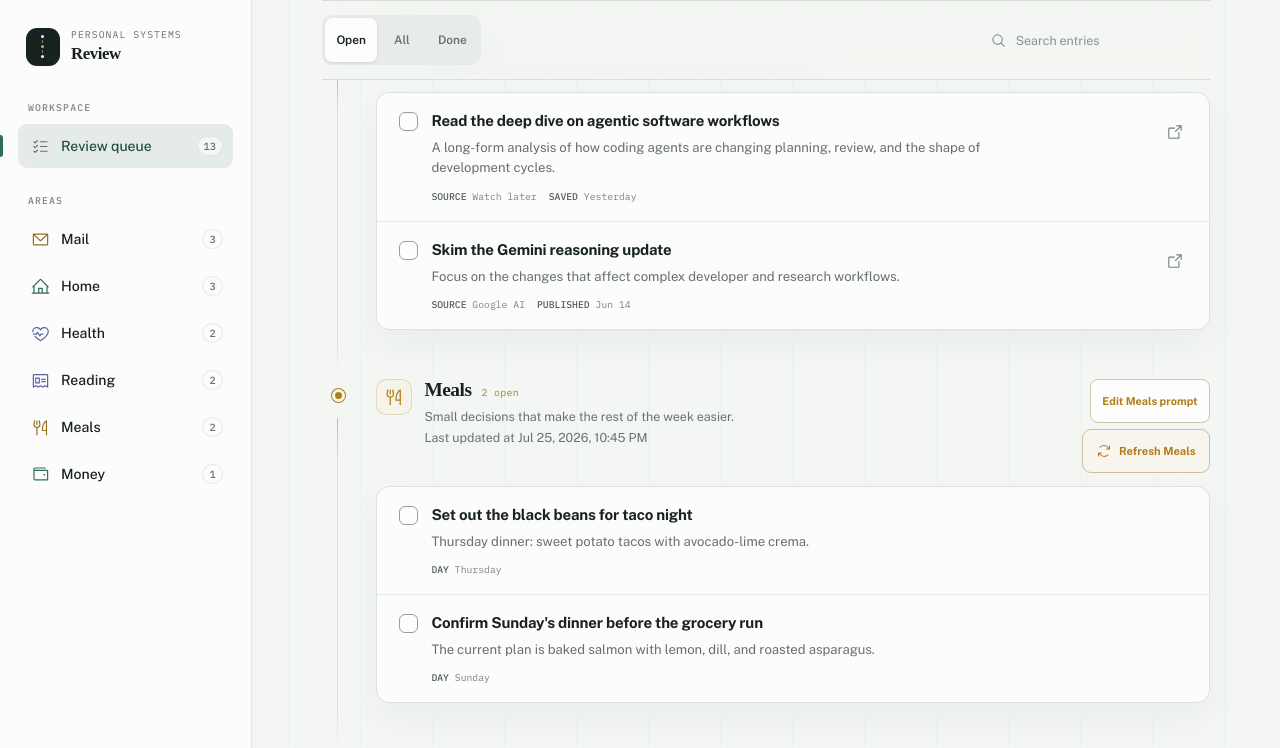
Test: ReviewApp › keeps the saved Meals entries visible when its individual update fails
(page scrolled)
Click the button "Refresh Meals" at (1146, 451), box [1082,429,1210,473]
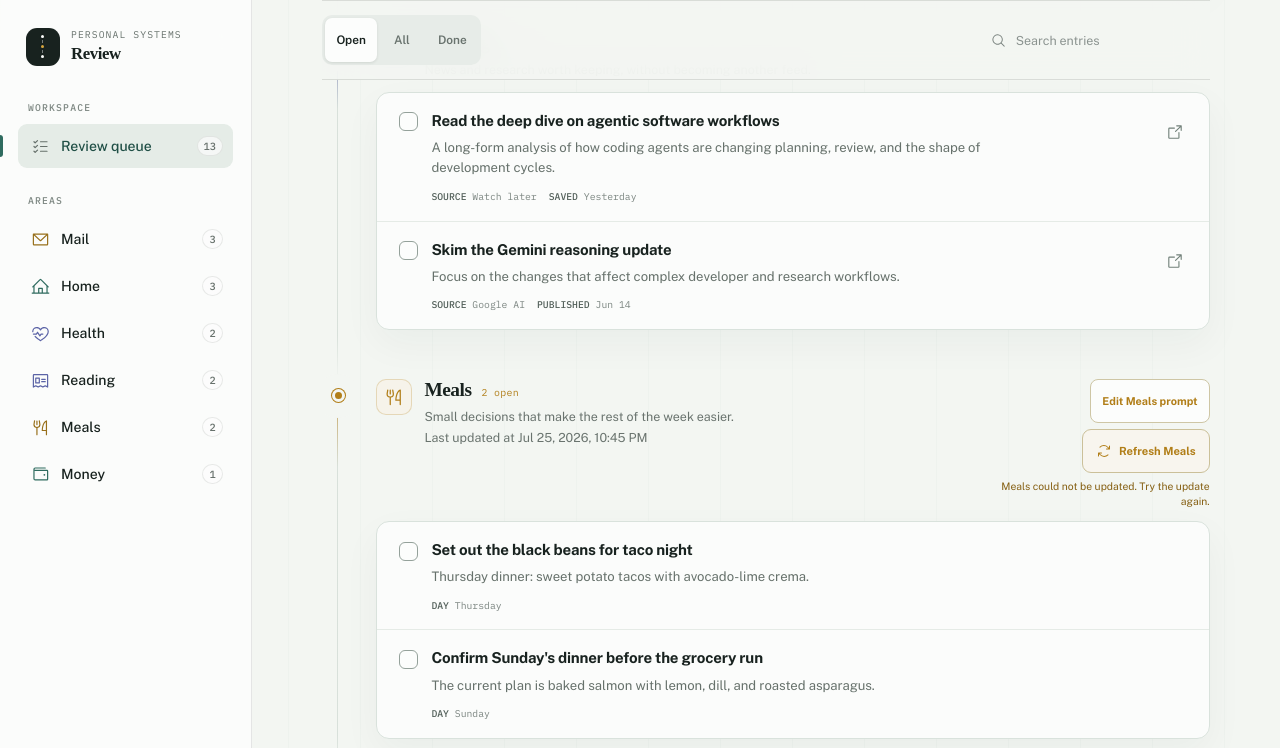
Expected: the heading "Confirm Sunday's dinner before the grocery run" is shown, [431,650,763,666]
Expected: the text "Meals could not be updated. Try the update again." is shown, [990,479,1210,508]
